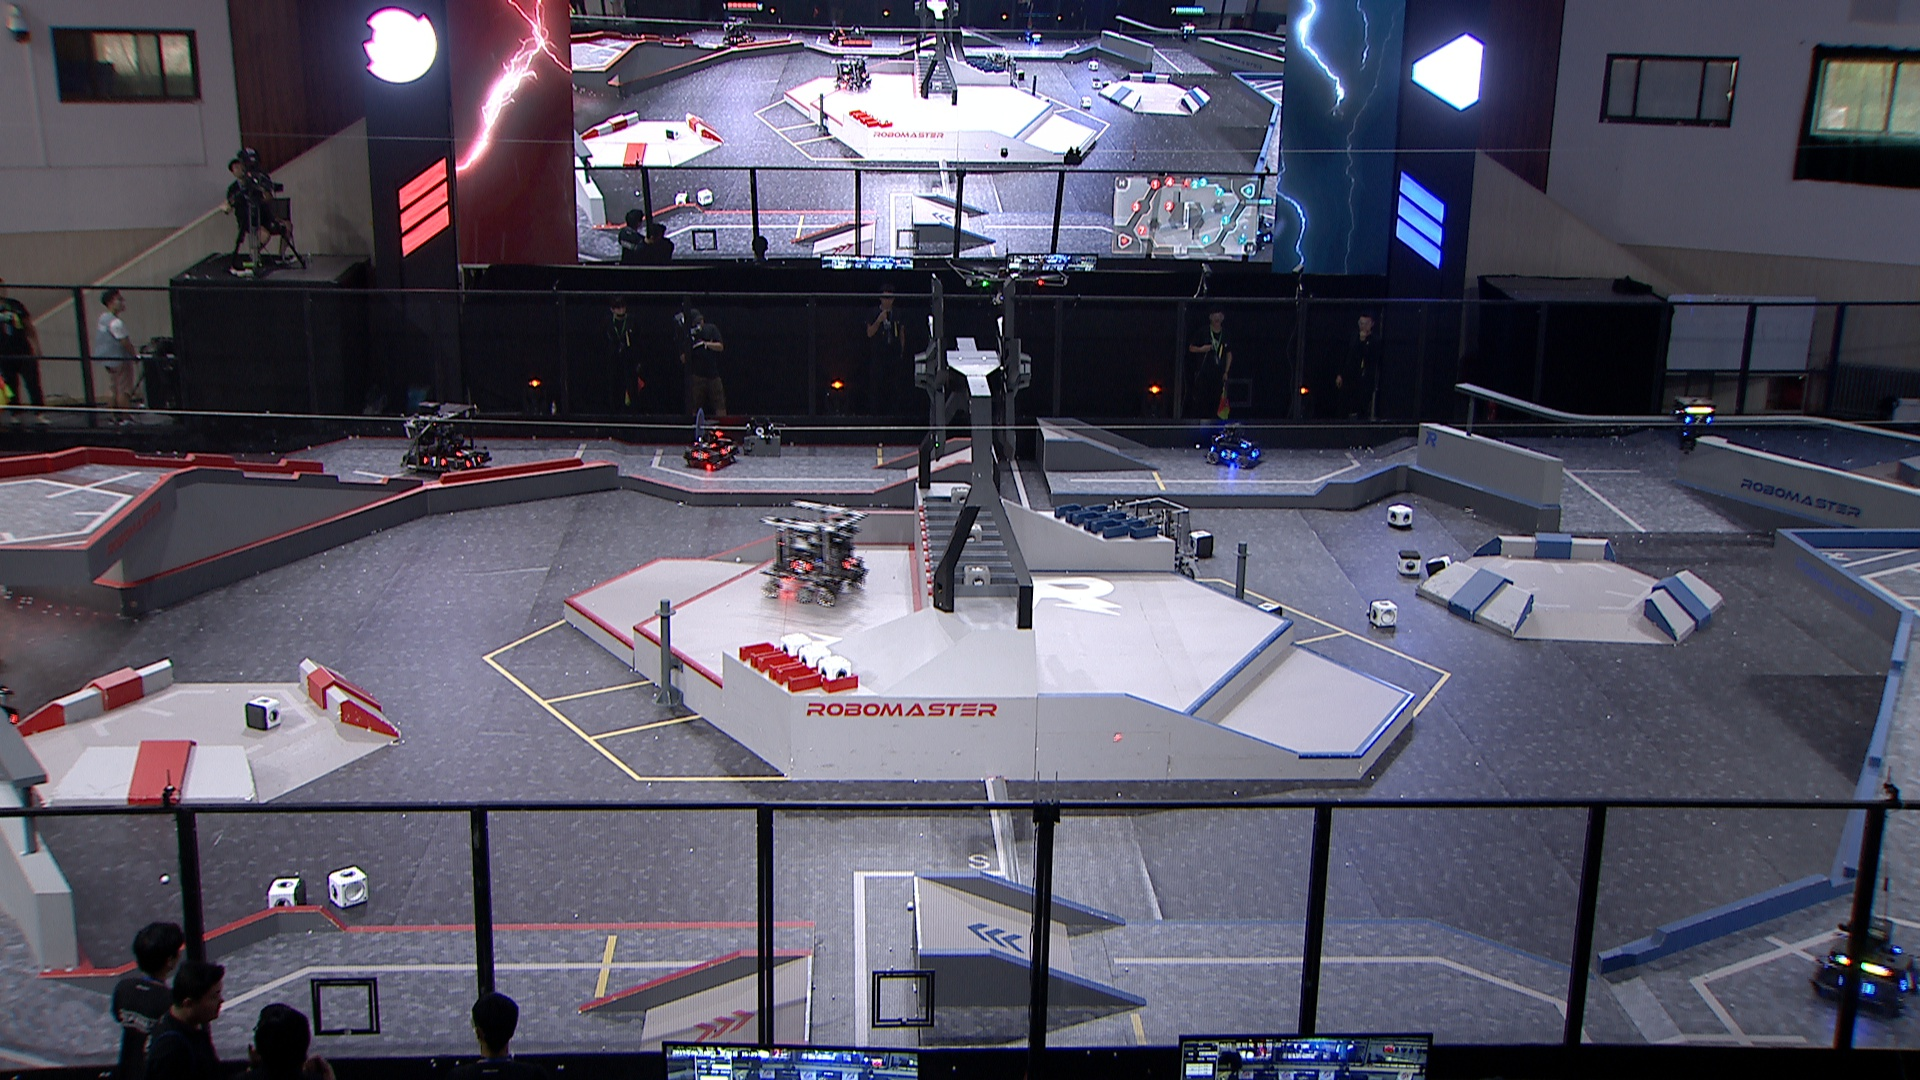armor: (1898, 964, 1920, 996), (1684, 413, 1716, 429), (419, 455, 451, 471), (837, 553, 858, 574), (452, 442, 476, 458), (462, 454, 485, 469), (789, 556, 808, 575), (694, 438, 717, 451), (717, 440, 735, 458), (1218, 447, 1238, 462), (1247, 443, 1261, 462), (694, 450, 711, 462), (1240, 436, 1251, 451)
car: (1807, 913, 1920, 1019), (764, 500, 866, 604), (1102, 495, 1204, 584), (400, 396, 491, 473), (678, 415, 741, 469), (1205, 418, 1267, 469)
ignore: (832, 51, 870, 94), (828, 18, 869, 53), (721, 15, 760, 50), (989, 50, 1025, 88), (1257, 211, 1273, 252), (1182, 20, 1199, 44), (1026, 26, 1046, 46)
watcher: (1669, 394, 1718, 455)
